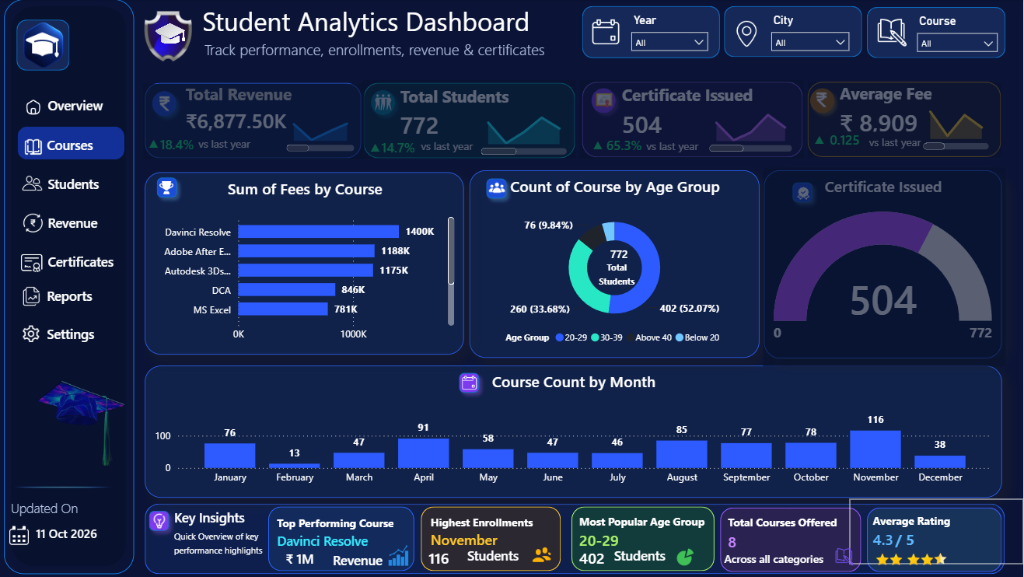

What the dashboard file says about the page in this screenshot:
{"tool":"powerbi","page":{"name":"Courses","canvas":[1280,720],"ordinal":2},"visuals":[{"type":"shape","box":[14.8,0,161.5,713.5],"z":0},{"type":"shape","box":[190,626.2,1067.5,87.5],"z":1000},{"type":"shape","box":[1012.2,102.2,240,93.3],"z":2000},{"type":"shape","box":[461.2,103.8,262.5,93.8],"z":3000},{"type":"shape","box":[190,103.8,268.8,93.8],"z":4000},{"type":"shape","box":[907.9,8.2,171.3,63.3],"z":5000},{"type":"shape","box":[1086.1,9.2,172,63.3],"z":6000},{"type":"clusteredColumnChart","fields":{"Category":["Student Course Details (2).Month"],"Y":["Student Course Details (2).Course Count"]},"box":[190,455,1063.8,163.8],"z":7000},{"type":"shape","box":[732.4,8.1,171,64.6],"z":8000},{"type":"donutChart","fields":{"Y":["CountNonNull(Student Course Details (2).Course)"],"Category":["Student Course Details (2).Age Group"]},"box":[592.5,212.5,360,232.5],"z":9000},{"type":"clusteredBarChart","title":"      Sum of Fees by Course","fields":{"Category":["Student Course Details (2).Course"],"Y":["Personal Details.Total Revenue calc"]},"box":[190,215,396.2,226.2],"z":10000},{"type":"gauge","fields":{"Y":["Personal Details.CountYes"]},"box":[957.5,212.5,295,233.8],"z":11000},{"type":"slicer","fields":{"Values":["Personal Details.City"]},"box":[957.2,11.5,117.5,65],"z":12000},{"type":"slicer","fields":{"Values":["Student Course Details (2).Course"]},"box":[1138.1,13.2,120,62.7],"z":13000},{"type":"slicer","fields":{"Values":["Student Course Details (2).Date of Join.Variation.Date Hierarchy.Year"]},"box":[782.5,12.6,115.5,58],"z":14000},{"type":"cardVisual","fields":{"Data":["Personal Details.AverageRound Fee"]},"box":[1023.3,91.1,216.7,90],"z":15000},{"type":"cardVisual","fields":{"Data":["Sum(Student Course Details (2).Fees)"]},"box":[210.8,88.3,210.5,94.5],"z":16000},{"type":"cardVisual","fields":{"Data":["CountNonNull(Student Course Details (2).Student Name)"]},"box":[477.6,94.7,204.7,90.6],"z":17000},{"type":"textbox","box":[255.8,0,427.7,63.2],"z":18000},{"type":"textbox","box":[258.5,44.4,465.3,49.8],"z":19000},{"type":"cardVisual","fields":{"Data":["Personal Details.Revenue Growth %"]},"box":[176.7,150.8,106.7,55.3],"z":20000},{"type":"textbox","box":[247.5,165.8,97.3,30],"z":21000},{"type":"textbox","box":[190,161.7,25,32.5],"z":22000},{"type":"shape","box":[190,105,48.2,49.1],"z":23000},{"type":"image","box":[181.7,113.3,63.8,31.5],"z":24000},{"type":"areaChart","fields":{"Category":["Student Course Details (2).Date of Join.Variation.Date Hierarchy.Month"],"Y":["Sum(Student Course Details (2).Fees)"]},"box":[361.2,132.5,93.8,61.2],"z":25000},{"type":"shape","box":[460.8,103.3,48.2,49.1],"z":26000},{"type":"textbox","box":[524.2,167.5,97.3,30],"z":27000},{"type":"cardVisual","fields":{"Data":["Personal Details.Student Growth %"]},"box":[440,154.3,127.1,57.1],"z":28000},{"type":"textbox","box":[464.7,166.5,25,32.5],"z":29000},{"type":"shape","box":[732.5,102.5,273.8,93.8],"z":30000},{"type":"cardVisual","fields":{"Data":["Personal Details.CountYes"]},"box":[752.9,92.9,244.1,92.9],"z":31000},{"type":"shape","box":[735,100.8,48.2,49.1],"z":32000},{"type":"cardVisual","fields":{"Data":["Personal Details.Certificate Issued %"]},"box":[732.4,151.2,104.3,57.1],"z":33000},{"type":"textbox","box":[741.2,164.1,25,32.5],"z":34000},{"type":"textbox","box":[802.9,168.2,97.3,30],"z":35000},{"type":"image","box":[745.7,115.7,28.2,20],"z":36000},{"type":"image","box":[469.2,117.5,31.4,20.7],"z":37000},{"type":"shape","box":[1005.6,101,48.2,49.1],"z":38000},{"type":"image","box":[997.3,109.1,63.8,31.5],"z":39000},{"type":"textbox","box":[1015.8,156.7,25,32.5],"z":40000},{"type":"textbox","box":[1079.2,163.3,97.3,30],"z":41000},{"type":"cardVisual","fields":{"Data":["Personal Details.Average Fee Growth %"]},"box":[1005.8,145,104.3,57.1],"z":42000},{"type":"shape","box":[195.5,211.8,42.7,42.7],"z":43000},{"type":"image","box":[206.9,213.1,20,40],"z":44000},{"type":"shape","box":[605,213,42.7,42.7],"z":45000},{"type":"image","box":[616.4,217.9,20,30.7],"z":46000},{"type":"shape","box":[984.4,218.9,42.7,42.7],"z":47000},{"type":"cardVisual","fields":{"Data":["CountNonNull(Student Course Details (2).Student Name)"]},"box":[738.9,278.9,106.7,72.2],"z":48000},{"type":"textbox","box":[740.4,317.7,69,68],"z":49000},{"type":"image","box":[997.8,227.8,18,25.3],"z":50000},{"type":"shape","box":[570.8,455,42.7,42.7],"z":51000},{"type":"image","box":[581.2,455,21.2,42.5],"z":52000},{"type":"shape","box":[186.2,626.2,42.7,42.7],"z":53000},{"type":"image","box":[196.2,630,21.2,36.2],"z":54000},{"type":"textbox","box":[221.2,627.5,97.5,42.5],"z":55000},{"type":"textbox","box":[221.2,651.2,140,68.8],"z":56000},{"type":"shape","box":[342.5,630,181.2,80],"z":57000},{"type":"cardVisual","fields":{"Data":["Personal Details.Top Course"]},"box":[325,620,242.5,83.8],"z":58000},{"type":"cardVisual","fields":{"Data":["Personal Details.Top Course Revenue"]},"box":[335,666.2,130,53.8],"z":59000},{"type":"textbox","box":[412.5,677.5,98.8,36.2],"z":60000},{"type":"shape","box":[532.5,630,173.8,80],"z":61000},{"type":"textbox","box":[580,675,98.8,36.2],"z":62000},{"type":"cardVisual","fields":{"Data":["Personal Details.Highest Enrollment Count"]},"box":[512.5,666.2,92.5,53.8],"z":63000},{"type":"cardVisual","fields":{"Data":["Personal Details.Highest Enrollment Month"]},"box":[515,618.8,238.8,83.8],"z":64000},{"type":"shape","box":[718.8,630,177.5,80],"z":65000},{"type":"cardVisual","fields":{"Data":["Personal Details.Most Popular Age Group"]},"box":[700,626.2,216.2,70],"z":66000},{"type":"cardVisual","fields":{"Data":["Personal Details.Popular Age Count"]},"box":[700,666.2,108.8,53.8],"z":67000},{"type":"textbox","box":[762.5,675,98.8,36.2],"z":68000},{"type":"shape","box":[903.8,631.2,175,80],"z":69000},{"type":"cardVisual","fields":{"Data":["Personal Details.Total Courses"]},"box":[883.8,620,197.5,85],"z":70000},{"type":"textbox","box":[900,680,181.2,36.2],"z":71000},{"type":"shape","box":[1086.2,631.2,167.5,80],"z":72000},{"type":"cardVisual","fields":{"Data":["Personal Details.Average Rating"]},"box":[1063.8,620,216.2,81.2],"z":73000},{"type":"textbox","box":[1116.2,652.5,42.5,37.5],"z":74000},{"type":"image","box":[1092.5,686.2,23.8,17.5],"z":75000},{"type":"image","box":[1110,686.4,23.8,17.5],"z":76000},{"type":"image","box":[1131.2,686.2,23.8,17.5],"z":77000},{"type":"image","box":[1148.2,686.4,23.8,17.5],"z":78000},{"type":"image","box":[1168.2,685.5,17.3,18.2],"z":79000},{"type":"image","box":[1045,672.5,25,38.8],"z":80000},{"type":"image","box":[837.5,680,46.2,23.8],"z":81000},{"type":"image","box":[670,673.8,25,33.8],"z":82000},{"type":"image","box":[490,676.2,28.8,26.2],"z":83000},{"type":"image","box":[741.2,20,41.2,40],"z":84000},{"type":"image","box":[1090,20,52.5,40],"z":85000},{"type":"image","box":[916.2,25,41.2,35],"z":86000},{"type":"areaChart","fields":{"Category":["Student Course Details (2).Month"],"Y":["Personal Details.Total Students"]},"box":[602.5,122.5,116.2,75],"z":87000},{"type":"areaChart","fields":{"Category":["Student Course Details (2).Month"],"Y":["Personal Details.Certificates Issued"]},"box":[885,122.5,112.5,71.2],"z":88000},{"type":"areaChart","fields":{"Category":["Student Course Details (2).Month"],"Y":["Personal Details.Average Fee"]},"box":[1151.2,125,91.2,66.2],"z":89000},{"type":"image","box":[187.1,0,61.9,91.5],"z":90000},{"type":"image","box":[195.2,13.5,51.2,57.9],"z":91000},{"type":"shape","box":[29.6,25.6,66,63.3],"z":92000},{"type":"image","box":[31.5,25.4,64.6,63.8],"z":93000},{"type":"image","box":[38.5,35.4,47.7,40.8],"z":94000},{"type":"image","box":[18.6,651.4,30,28.6],"z":95000},{"type":"cardVisual","fields":{"Data":["Personal Details.Updated On"]},"box":[25.7,630,170,65.7],"z":96000},{"type":"textbox","box":[18.6,615.7,120,50],"z":97000},{"type":"actionButton","box":[31.4,158,132.7,41],"z":98000},{"type":"textbox","box":[64,116,82,33],"z":99000},{"type":"image","box":[39,123,25,22],"z":100000},{"type":"textbox","box":[64,213,89,33],"z":101000},{"type":"textbox","box":[64.3,261.4,82,33],"z":102000},{"type":"shape","box":[458.6,100,265.7,98.6],"z":103000},{"type":"shape","box":[728.6,100,278.6,98.6],"z":104000},{"type":"shape","box":[957.1,208.6,301.4,247.1],"z":105000},{"type":"textbox","box":[63,165,82,33],"z":106000},{"type":"image","box":[37.4,171.3,26.5,24.1],"z":107000},{"type":"image","box":[38,262,26,32],"z":108000},{"type":"image","box":[38,216,25,25],"z":109000},{"type":"image","box":[33.8,311.3,30.2,31.4],"z":110000},{"type":"textbox","box":[63.9,310.1,112.2,32.6],"z":110001},{"type":"textbox","box":[62.7,352.3,82,33],"z":110002},{"type":"textbox","box":[62.7,399.3,82,33],"z":110003},{"type":"image","box":[35,352.3,26,32],"z":110004},{"type":"image","box":[35,399.3,26,32],"z":110005},{"type":"image","box":[0,426,203,194],"z":110006},{"type":"image","box":[16.9,594.8,146,25.3],"z":110007},{"type":"shape","box":[187,105,275.1,94.1],"z":110008},{"type":"shape","box":[1012.2,102.5,241.3,94.1],"z":110009}]}

Visuals, with their boxes on the page's 1280x720 design canvas (x1, y1, x2, y2). These are canvas units, not pixel positions in the 1024x577 screenshot, which may show the page scaled, cropped or inside an application window:
shape: locate(15, 0, 176, 714)
shape: locate(190, 626, 1258, 714)
shape: locate(1012, 102, 1252, 196)
shape: locate(461, 104, 724, 198)
shape: locate(190, 104, 459, 198)
shape: locate(908, 8, 1079, 72)
shape: locate(1086, 9, 1258, 72)
clusteredColumnChart - Student Course Details (2).Month x Student Course Details (2).Course Count: locate(190, 455, 1254, 619)
shape: locate(732, 8, 903, 73)
donutChart - CountNonNull(Student Course Details (2).Course) x Student Course Details (2).Age Group: locate(592, 212, 952, 445)
"      Sum of Fees by Course" clusteredBarChart: locate(190, 215, 586, 441)
gauge - Personal Details.CountYes: locate(958, 212, 1252, 446)
slicer - Personal Details.City: locate(957, 12, 1075, 76)
slicer - Student Course Details (2).Course: locate(1138, 13, 1258, 76)
slicer - Student Course Details (2).Date of Join.Variation.Date Hierarchy.Year: locate(782, 13, 898, 71)
cardVisual - Personal Details.AverageRound Fee: locate(1023, 91, 1240, 181)
cardVisual - Sum(Student Course Details (2).Fees): locate(211, 88, 421, 183)
cardVisual - CountNonNull(Student Course Details (2).Student Name): locate(478, 95, 682, 185)
textbox: locate(256, 0, 684, 63)
textbox: locate(258, 44, 724, 94)
cardVisual - Personal Details.Revenue Growth %: locate(177, 151, 283, 206)
textbox: locate(248, 166, 345, 196)
textbox: locate(190, 162, 215, 194)
shape: locate(190, 105, 238, 154)
image: locate(182, 113, 246, 145)
areaChart - Student Course Details (2).Date of Join.Variation.Date Hierarchy.Month x Sum(Student Course Details (2).Fees): locate(361, 132, 455, 194)
shape: locate(461, 103, 509, 152)
textbox: locate(524, 168, 622, 198)
cardVisual - Personal Details.Student Growth %: locate(440, 154, 567, 211)
textbox: locate(465, 166, 490, 199)
shape: locate(732, 102, 1006, 196)
cardVisual - Personal Details.CountYes: locate(753, 93, 997, 186)
shape: locate(735, 101, 783, 150)
cardVisual - Personal Details.Certificate Issued %: locate(732, 151, 837, 208)
textbox: locate(741, 164, 766, 197)
textbox: locate(803, 168, 900, 198)
image: locate(746, 116, 774, 136)
image: locate(469, 118, 501, 138)
shape: locate(1006, 101, 1054, 150)
image: locate(997, 109, 1061, 141)
textbox: locate(1016, 157, 1041, 189)
textbox: locate(1079, 163, 1176, 193)
cardVisual - Personal Details.Average Fee Growth %: locate(1006, 145, 1110, 202)
shape: locate(196, 212, 238, 254)
image: locate(207, 213, 227, 253)
shape: locate(605, 213, 648, 256)
image: locate(616, 218, 636, 249)
shape: locate(984, 219, 1027, 262)
cardVisual - CountNonNull(Student Course Details (2).Student Name): locate(739, 279, 846, 351)
textbox: locate(740, 318, 809, 386)
image: locate(998, 228, 1016, 253)
shape: locate(571, 455, 614, 498)
image: locate(581, 455, 602, 498)
shape: locate(186, 626, 229, 669)
image: locate(196, 630, 217, 666)
textbox: locate(221, 628, 319, 670)
textbox: locate(221, 651, 361, 720)
shape: locate(342, 630, 524, 710)
cardVisual - Personal Details.Top Course: locate(325, 620, 568, 704)
cardVisual - Personal Details.Top Course Revenue: locate(335, 666, 465, 720)
textbox: locate(412, 678, 511, 714)
shape: locate(532, 630, 706, 710)
textbox: locate(580, 675, 679, 711)
cardVisual - Personal Details.Highest Enrollment Count: locate(512, 666, 605, 720)
cardVisual - Personal Details.Highest Enrollment Month: locate(515, 619, 754, 703)
shape: locate(719, 630, 896, 710)
cardVisual - Personal Details.Most Popular Age Group: locate(700, 626, 916, 696)
cardVisual - Personal Details.Popular Age Count: locate(700, 666, 809, 720)
textbox: locate(762, 675, 861, 711)
shape: locate(904, 631, 1079, 711)
cardVisual - Personal Details.Total Courses: locate(884, 620, 1081, 705)
textbox: locate(900, 680, 1081, 716)
shape: locate(1086, 631, 1254, 711)
cardVisual - Personal Details.Average Rating: locate(1064, 620, 1280, 701)
textbox: locate(1116, 652, 1159, 690)
image: locate(1092, 686, 1116, 704)
image: locate(1110, 686, 1134, 704)
image: locate(1131, 686, 1155, 704)
image: locate(1148, 686, 1172, 704)
image: locate(1168, 686, 1186, 704)
image: locate(1045, 672, 1070, 711)
image: locate(838, 680, 884, 704)
image: locate(670, 674, 695, 708)
image: locate(490, 676, 519, 702)
image: locate(741, 20, 782, 60)
image: locate(1090, 20, 1142, 60)
image: locate(916, 25, 957, 60)
areaChart - Student Course Details (2).Month x Personal Details.Total Students: locate(602, 122, 719, 198)
areaChart - Student Course Details (2).Month x Personal Details.Certificates Issued: locate(885, 122, 998, 194)
areaChart - Student Course Details (2).Month x Personal Details.Average Fee: locate(1151, 125, 1242, 191)
image: locate(187, 0, 249, 92)
image: locate(195, 14, 246, 71)
shape: locate(30, 26, 96, 89)
image: locate(32, 25, 96, 89)
image: locate(38, 35, 86, 76)
image: locate(19, 651, 49, 680)
cardVisual - Personal Details.Updated On: locate(26, 630, 196, 696)
textbox: locate(19, 616, 139, 666)
actionButton: locate(31, 158, 164, 199)
textbox: locate(64, 116, 146, 149)
image: locate(39, 123, 64, 145)
textbox: locate(64, 213, 153, 246)
textbox: locate(64, 261, 146, 294)
shape: locate(459, 100, 724, 199)
shape: locate(729, 100, 1007, 199)
shape: locate(957, 209, 1258, 456)
textbox: locate(63, 165, 145, 198)
image: locate(37, 171, 64, 195)
image: locate(38, 262, 64, 294)
image: locate(38, 216, 63, 241)
image: locate(34, 311, 64, 343)
textbox: locate(64, 310, 176, 343)
textbox: locate(63, 352, 145, 385)
textbox: locate(63, 399, 145, 432)
image: locate(35, 352, 61, 384)
image: locate(35, 399, 61, 431)
image: locate(0, 426, 203, 620)
image: locate(17, 595, 163, 620)
shape: locate(187, 105, 462, 199)
shape: locate(1012, 102, 1254, 197)
